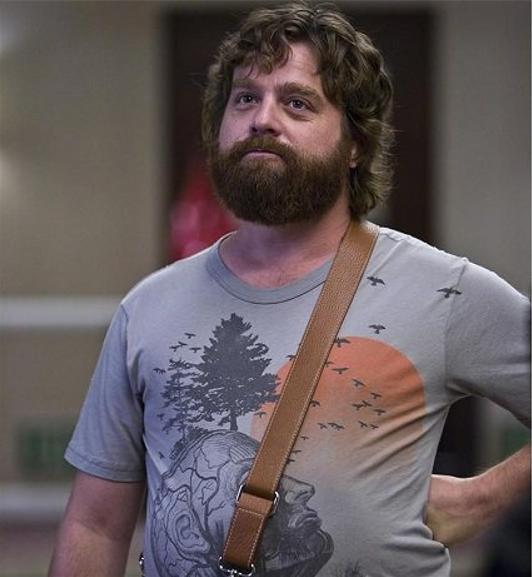Sober: (219, 49, 344, 197)
